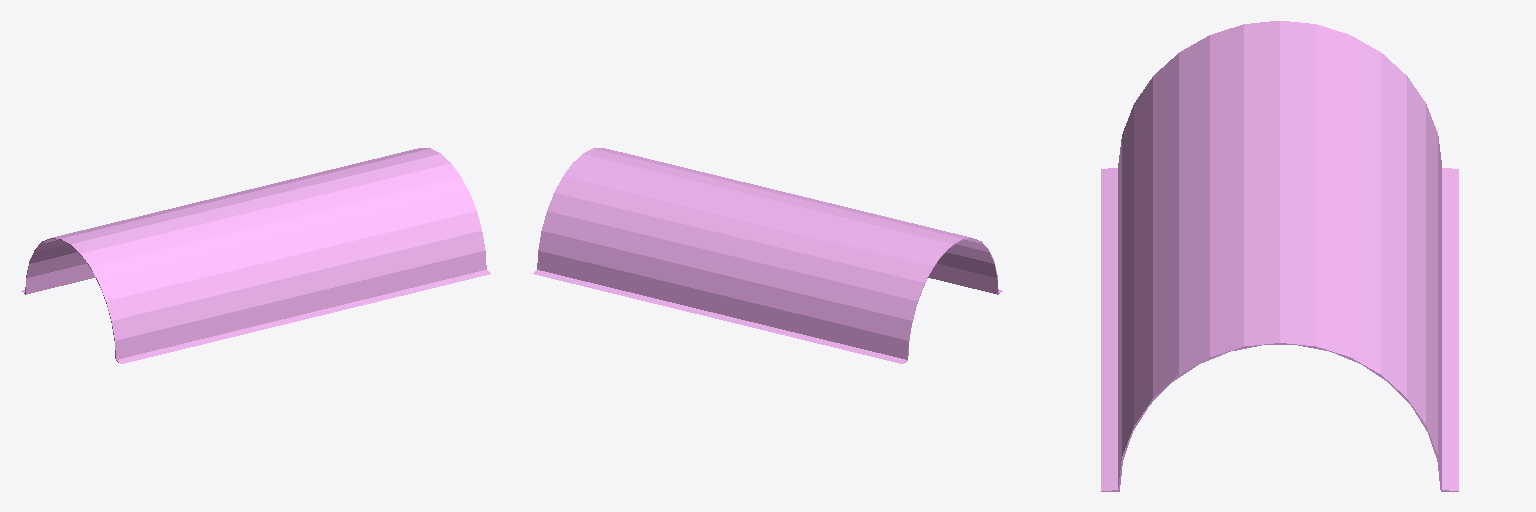
URDF robot description (tubestraight0405):
<?xml version="1.0" encoding="utf-8"?>
<!-- This URDF was automatically created by SolidWorks to URDF Exporter! Originally created by [author] ([email redacted]) 
     Commit Version: 1.6.0-1-g15f4949  Build Version: 1.6.7594.29634
     For more information, please see http://wiki.ros.org/sw_urdf_exporter -->
<robot
  name="tubestraight0405">
  <link
    name="base_link">
    <inertial>
      <origin
        xyz="2.5 -0.00049323 0.64702"
        rpy="0 0 0" />
      <mass
        value="207.32" />
      <inertia
        ixx="145.66"
        ixy="1.1183E-12"
        ixz="-1.6714E-13"
        iyy="456.58"
        iyz="-0.066985"
        izz="552.9" />
    </inertial>
    <visual>
      <origin
        xyz="0 0 0"
        rpy="0 0 0" />
      <geometry>
        <mesh
          filename="package://tubestraight0405/meshes/base_link.STL" />
      </geometry>
      <material
        name="">
        <color
          rgba="1 0.75294 1 1" />
      </material>
    </visual>
    <collision>
      <origin
        xyz="0 0 0"
        rpy="0 0 0" />
      <geometry>
        <mesh
          filename="package://tubestraight0405/meshes/base_link.STL" />
      </geometry>
    </collision>
  </link>
</robot>

--- What the picture shows (computed from the rendered views, not written in the file) ---
Views: 3 orthographic renders of the robot side by side, from view 1: azimuth 30°, elevation 25°; view 2: azimuth 150°, elevation 25°; view 3: azimuth 270°, elevation 25°.
Robot: tubestraight0405 — 1 links, 0 joints (none); root link base_link; default pose: all joints at 0.
Links seen in each view (by area): view 1: base_link; view 2: base_link; view 3: base_link.
Boxes of the visible links, x1,y1,x2,y2 form: base_link: (21,148,490,363); base_link: (533,148,1002,363); base_link: (1101,21,1458,491).
Size in the robot's own frame: 5 by 2.35 by 1.08 metres.
Meshes: 1 distinct files referenced, 1 mesh visuals loaded (1 binary STL).
